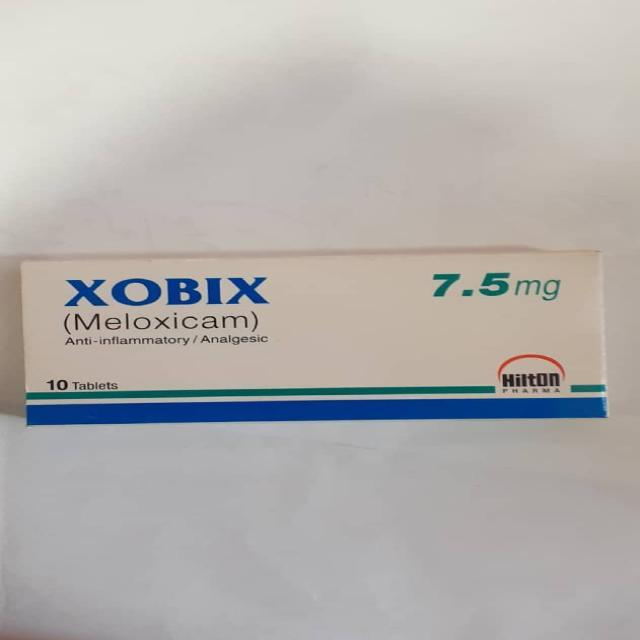drug-name: (62, 276, 272, 310)
